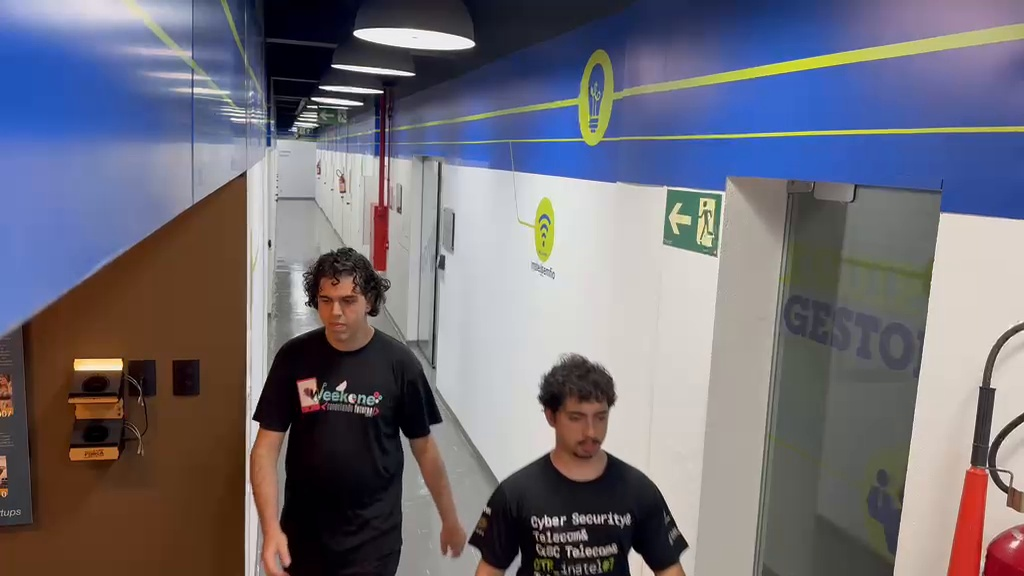person: (248, 246, 468, 572), (467, 353, 690, 573)
